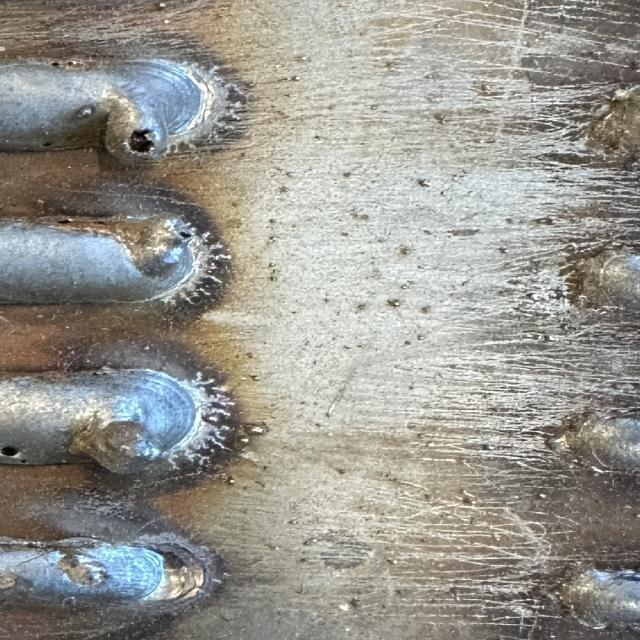Excess Reinforcement: (2, 218, 193, 281), (66, 401, 162, 474), (104, 104, 169, 163)
Porosity: (128, 130, 153, 152), (180, 232, 193, 239), (57, 220, 73, 224), (95, 221, 109, 225)
Spatters: (235, 422, 268, 449), (242, 422, 268, 435), (78, 106, 93, 118), (433, 112, 445, 124), (387, 299, 402, 308), (417, 179, 430, 188), (157, 2, 167, 9), (539, 494, 547, 499), (417, 336, 426, 340)
